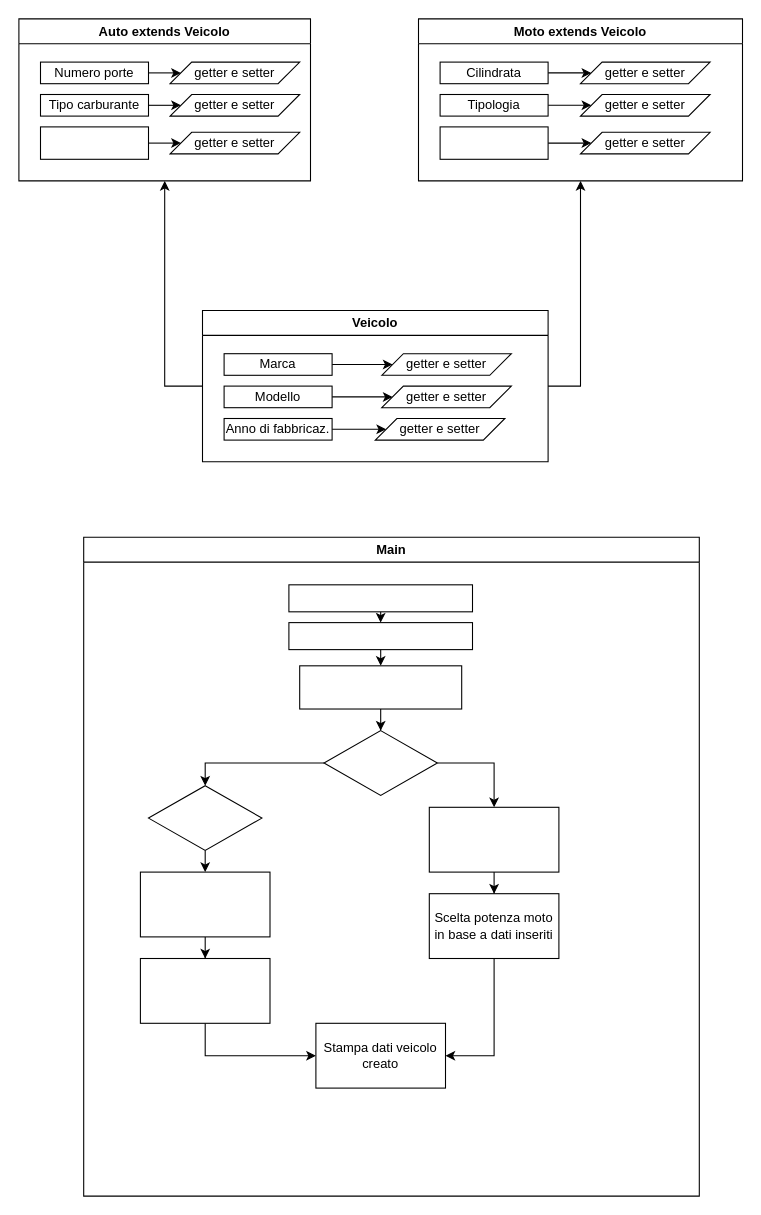
Image size: 761x1215. Some labels were removed from this diagram. Here are the shapes that lost their labels. From the top down, the centre of each, then its label:
At (93,142): "Consumo medio carburante".
At (493,142): "Potenza".
At (380,598): "Crea oggetto Auto".
At (380,636): "Crea oggetto Moto".
At (380,687): "MenuSceltaVeicolo()".
At (380,762): "if risp = moto".
At (204,817): "else if risp = auto".
At (493,839): "Richiesta inserimento dati moto: Cilindrata Tipologia".
At (204,904): "Richiesta inserimento dati auto: nPorte Tipo carburante".
At (204,990): "Scelta consumo auto in base a dati inseriti".
